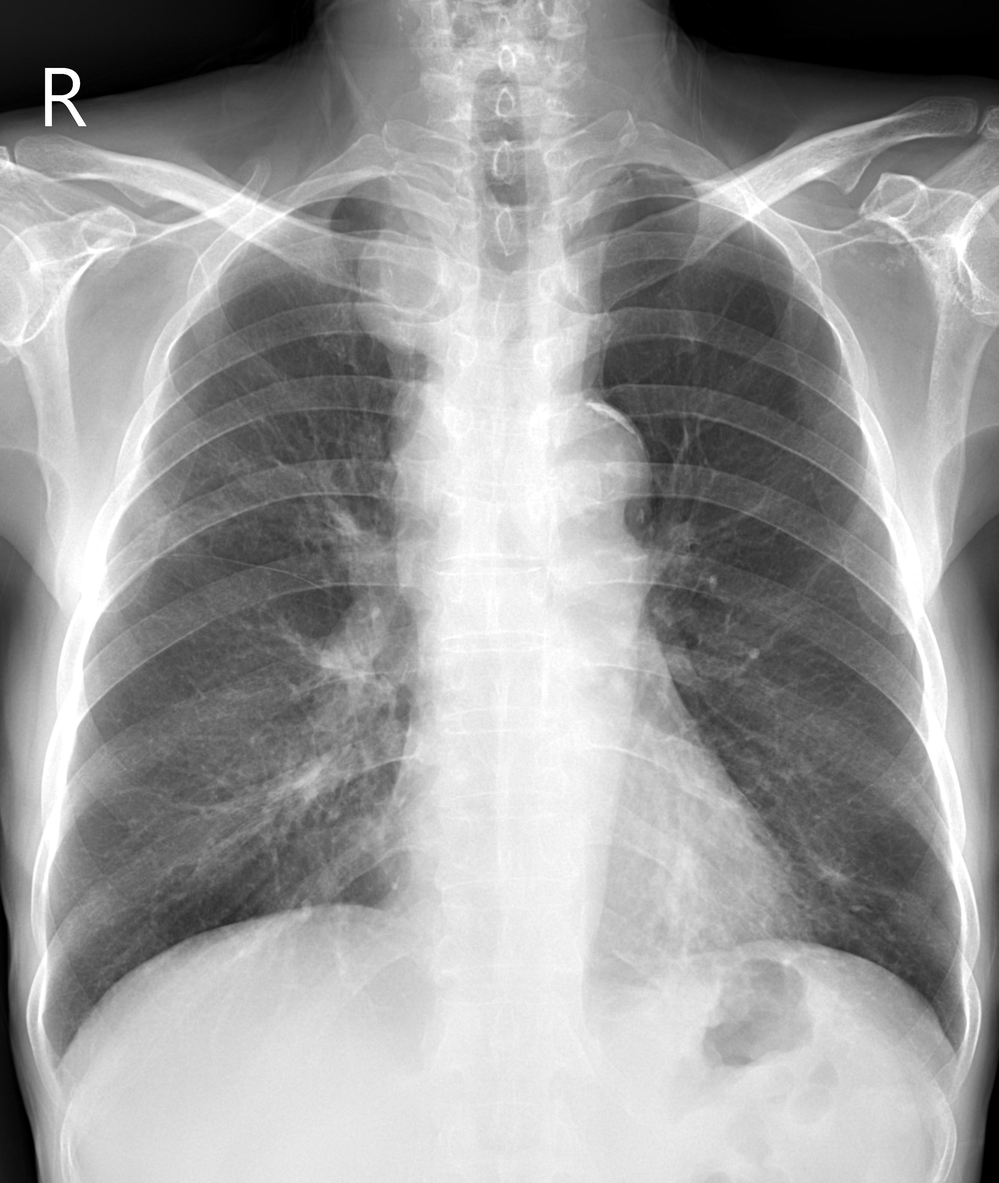Aortic enlargement: (514, 400, 655, 558)
Pleural thickening: (579, 162, 694, 195)
Pulmonary fibrosis: (267, 621, 396, 698)
